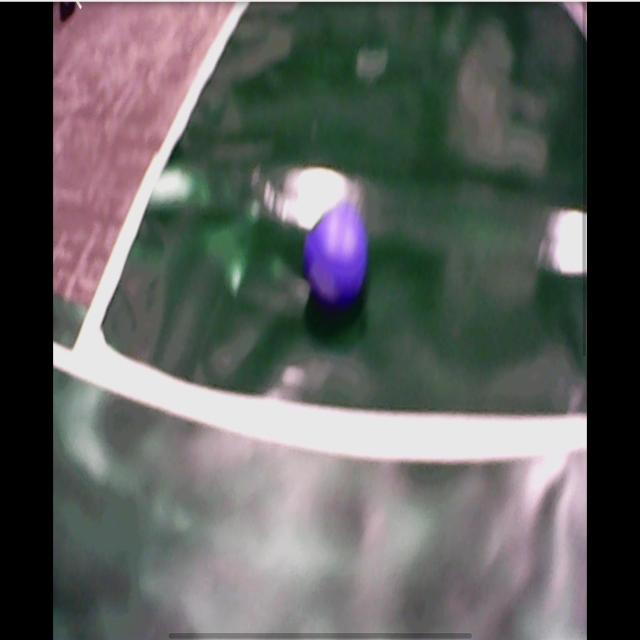ball: (306, 203, 367, 306)
